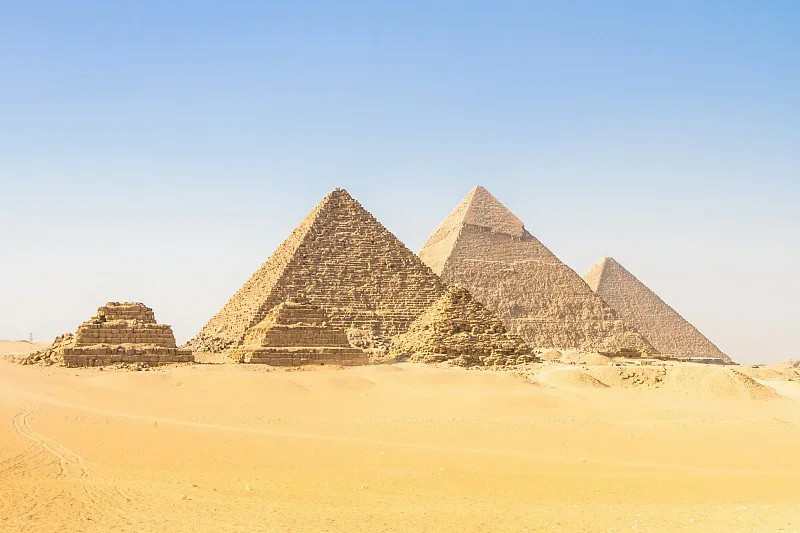Pyramid: (181, 188, 448, 352), (420, 185, 665, 362), (583, 257, 735, 365), (393, 288, 543, 364), (45, 301, 191, 367), (233, 297, 371, 366)
